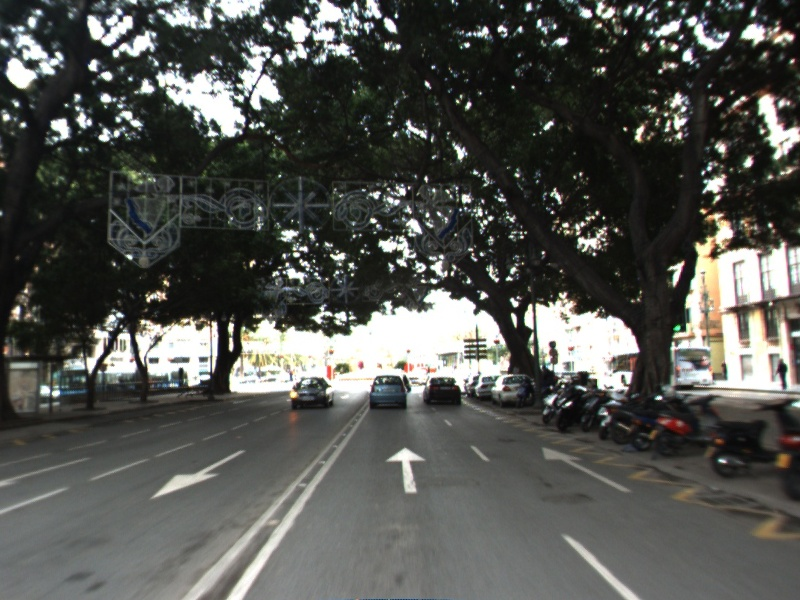STRAIGHT: (540, 445, 636, 495), (383, 444, 429, 496)
